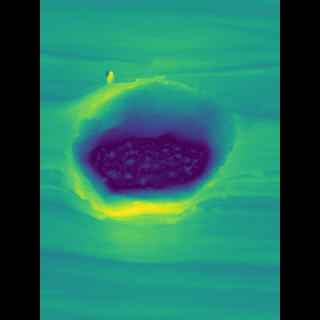Loch: (79, 74, 231, 235)
